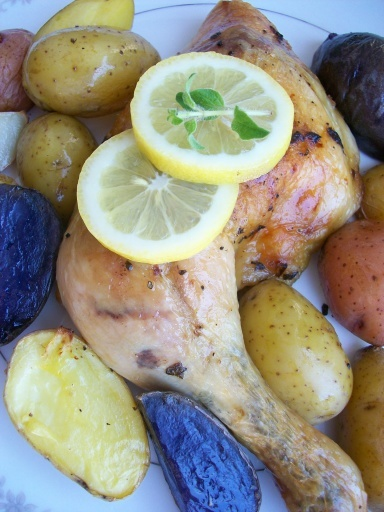background: (0, 2, 230, 409)
